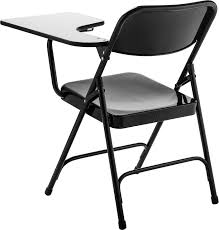desk: (1, 2, 217, 229)
